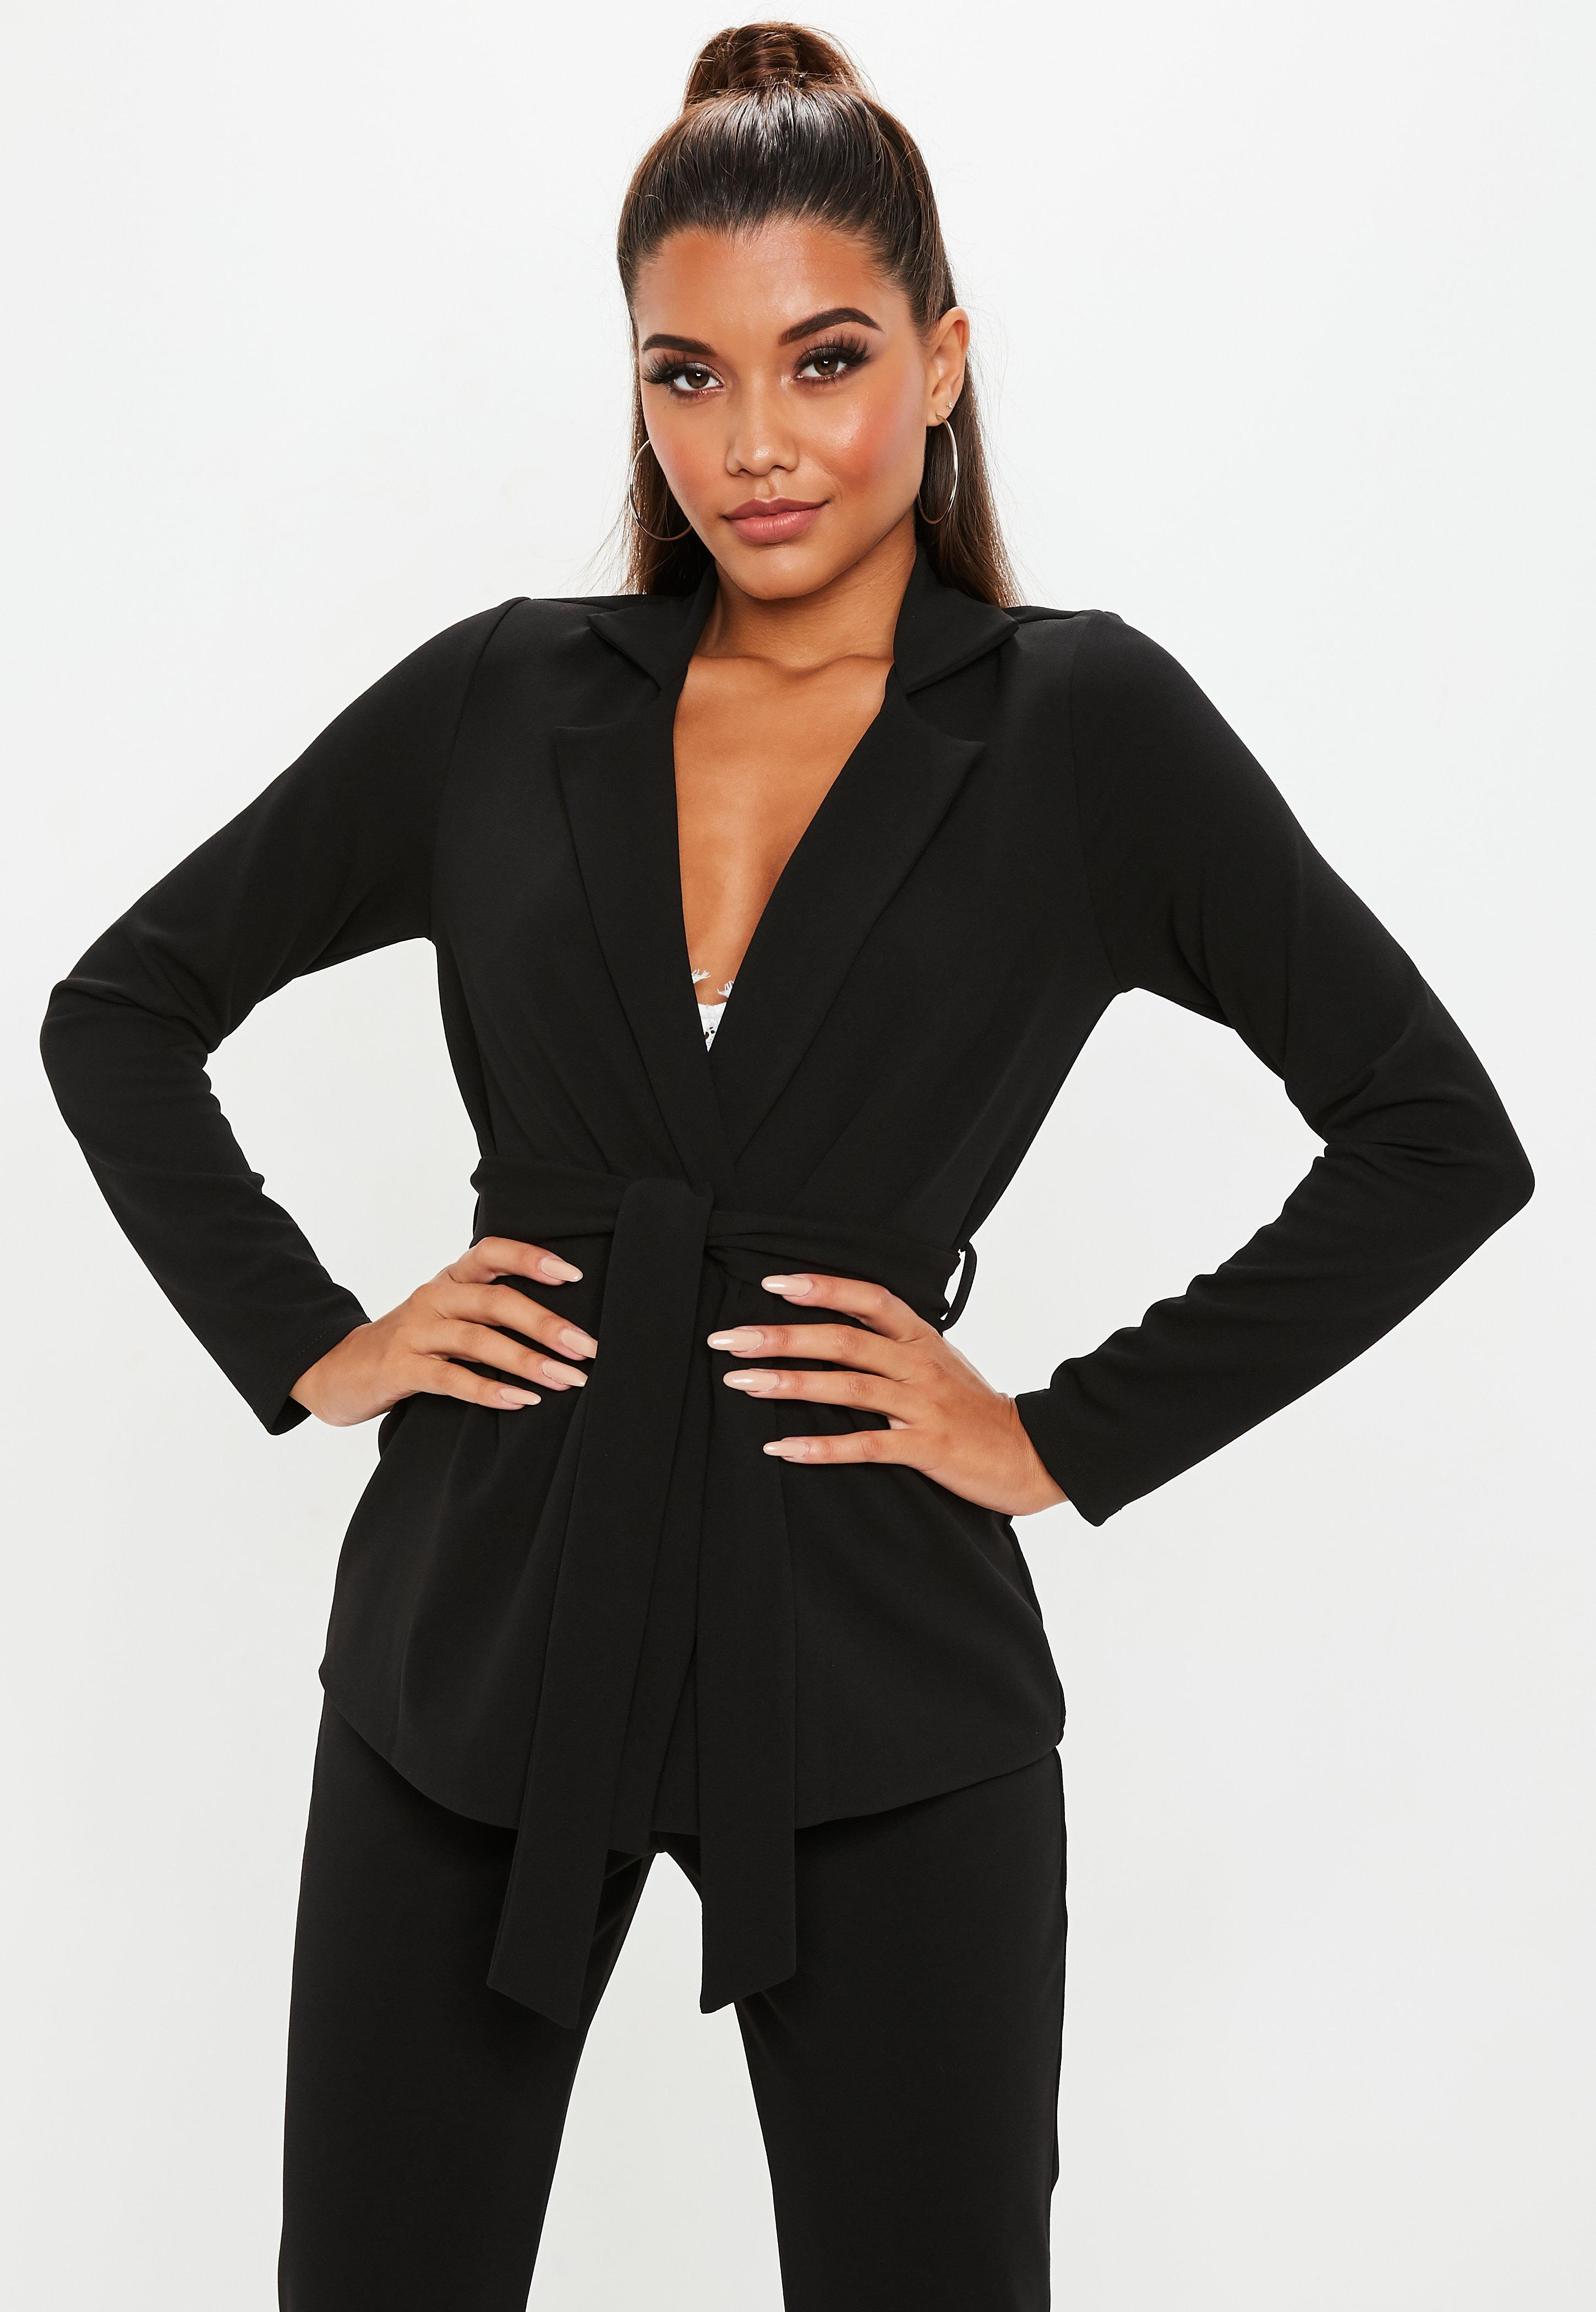F_W_suit jacket: (19, 567, 1529, 1846)
